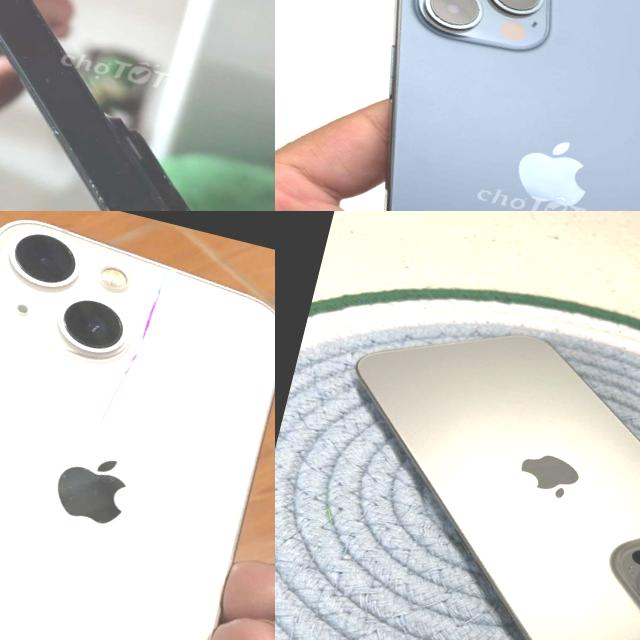scratch: (37, 165, 236, 211), (0, 0, 72, 36)
